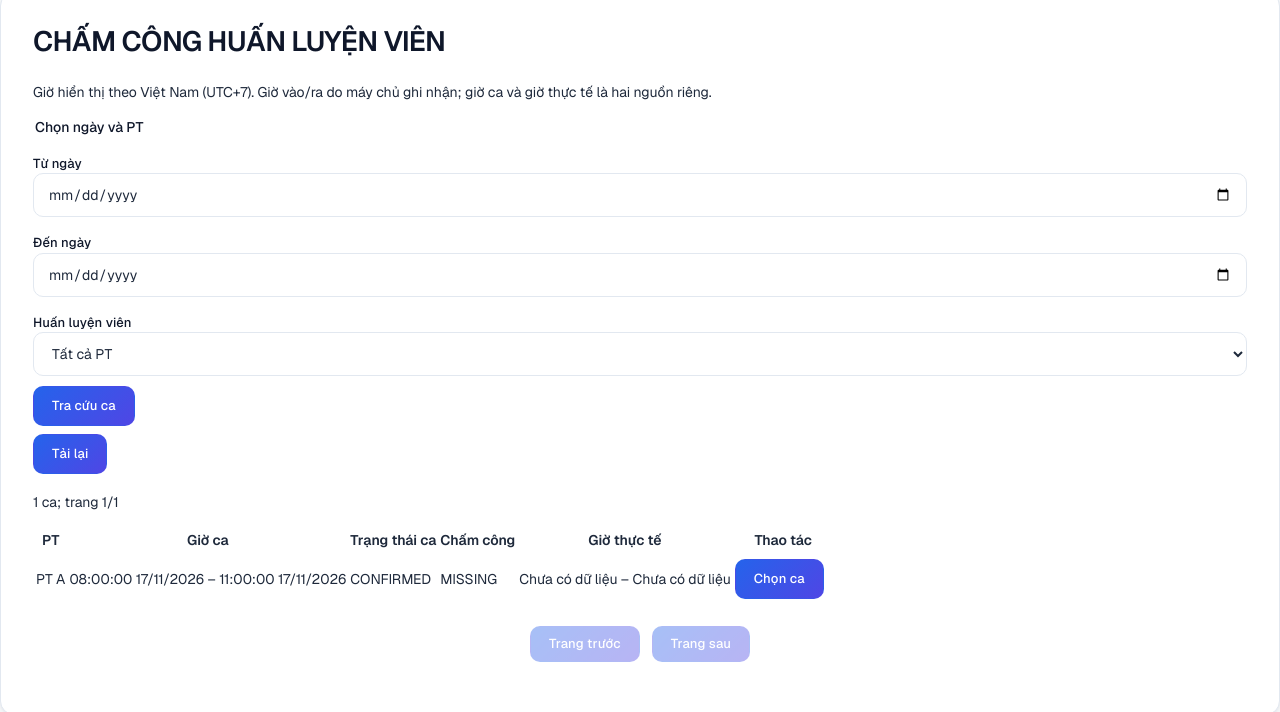
Test: US-63 attendance UI › TC01/04/12: MISSING is not zero hours; Staff verifies and sends only note with no client time/source
The width and height of the screenshot is (1280, 712).
Click the button "Chọn ca" at (779, 579), box x1=735 y1=559 x2=824 y2=599
(page scrolled)
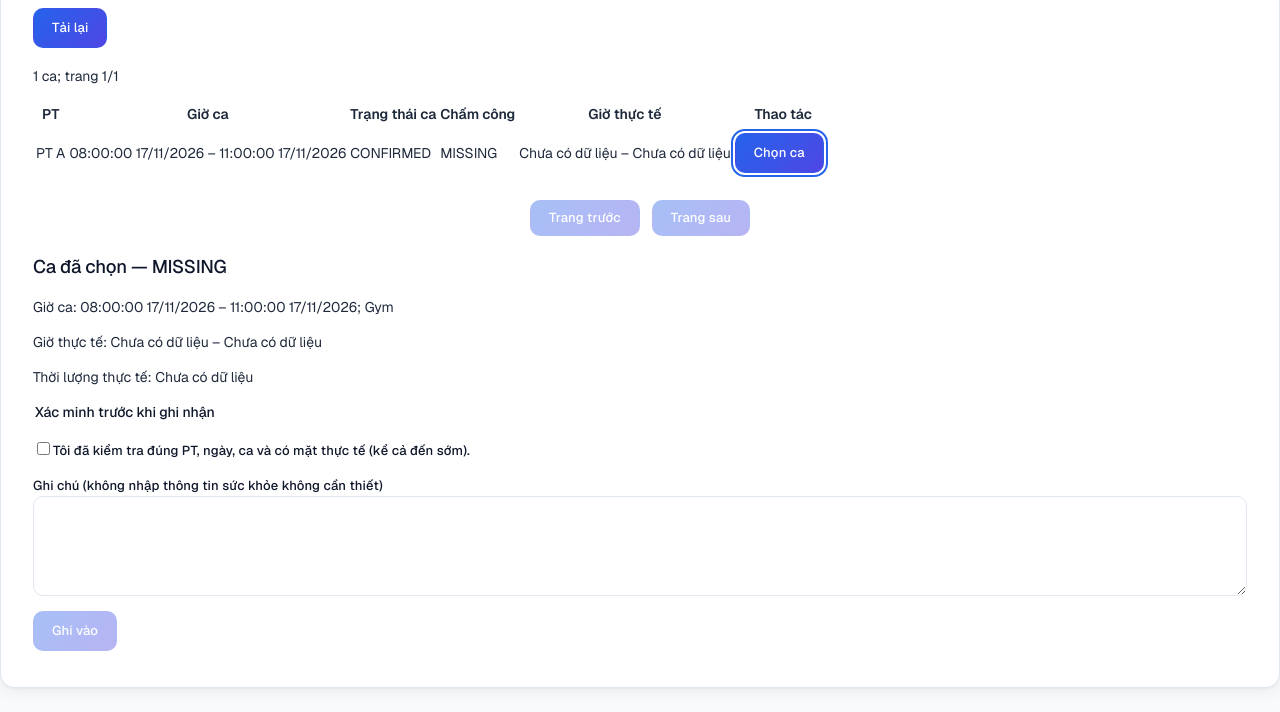
Check: the heading "Ca đã chọn — MISSING" is shown, box x1=33 y1=255 x2=226 y2=278
Check: the text "Thời lượng thực tế: Chưa có dữ liệu" is shown, box x1=33 y1=368 x2=253 y2=386
Check: the button "Ghi vào" is disabled, box x1=33 y1=611 x2=117 y2=651
Click the checkbox at (44, 448), box x1=37 y1=442 x2=50 y2=455
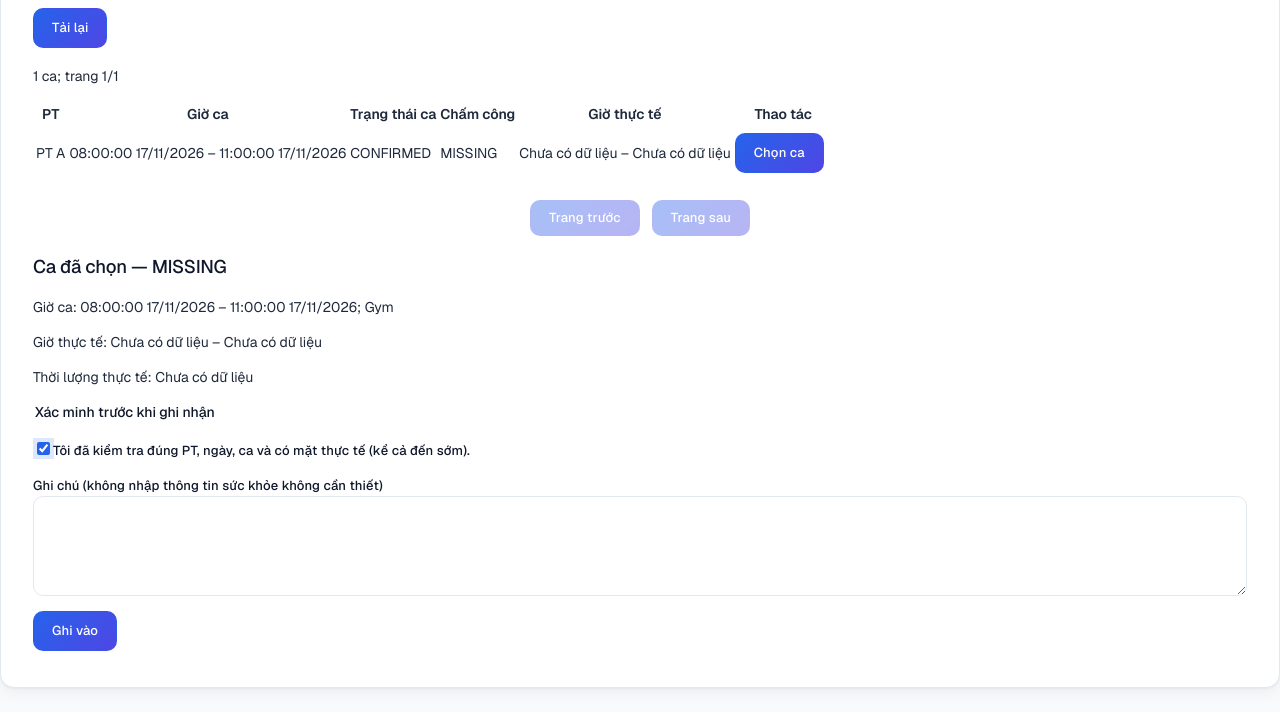
Click the button "Ghi vào" at (75, 631), box x1=33 y1=611 x2=117 y2=651
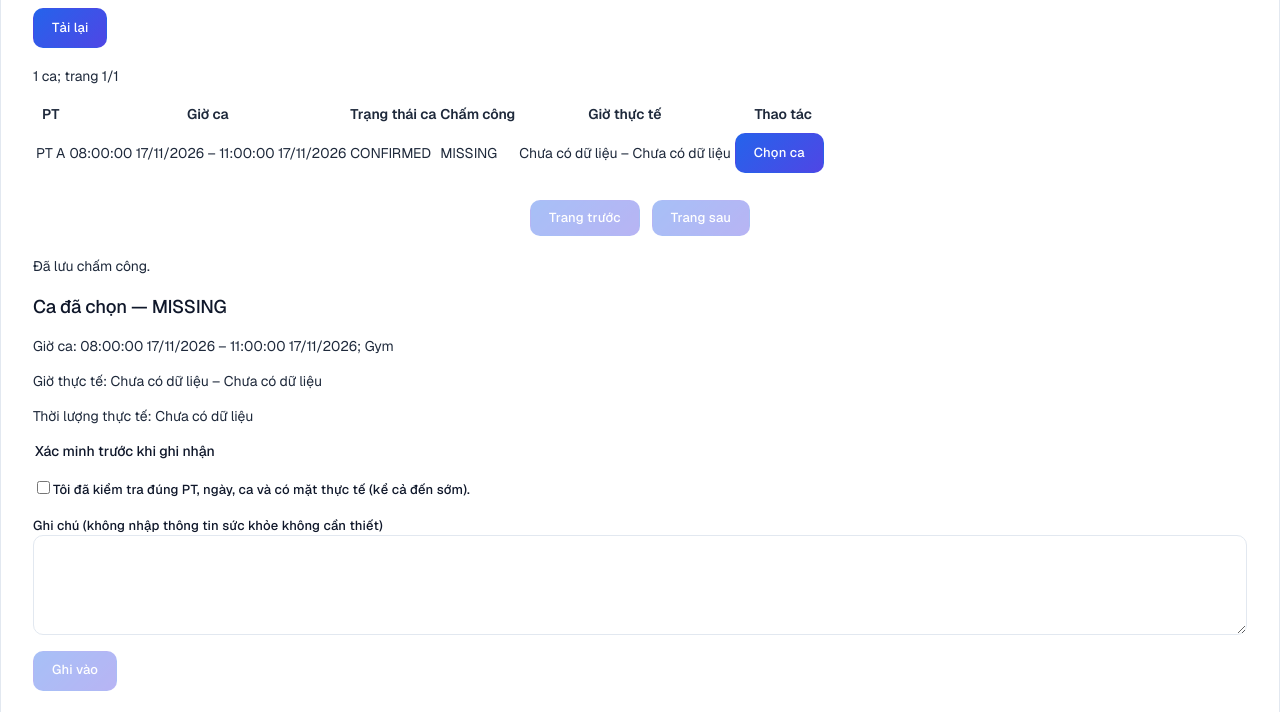
Check: the text "Đã lưu chấm công." is shown, box x1=33 y1=257 x2=150 y2=275
